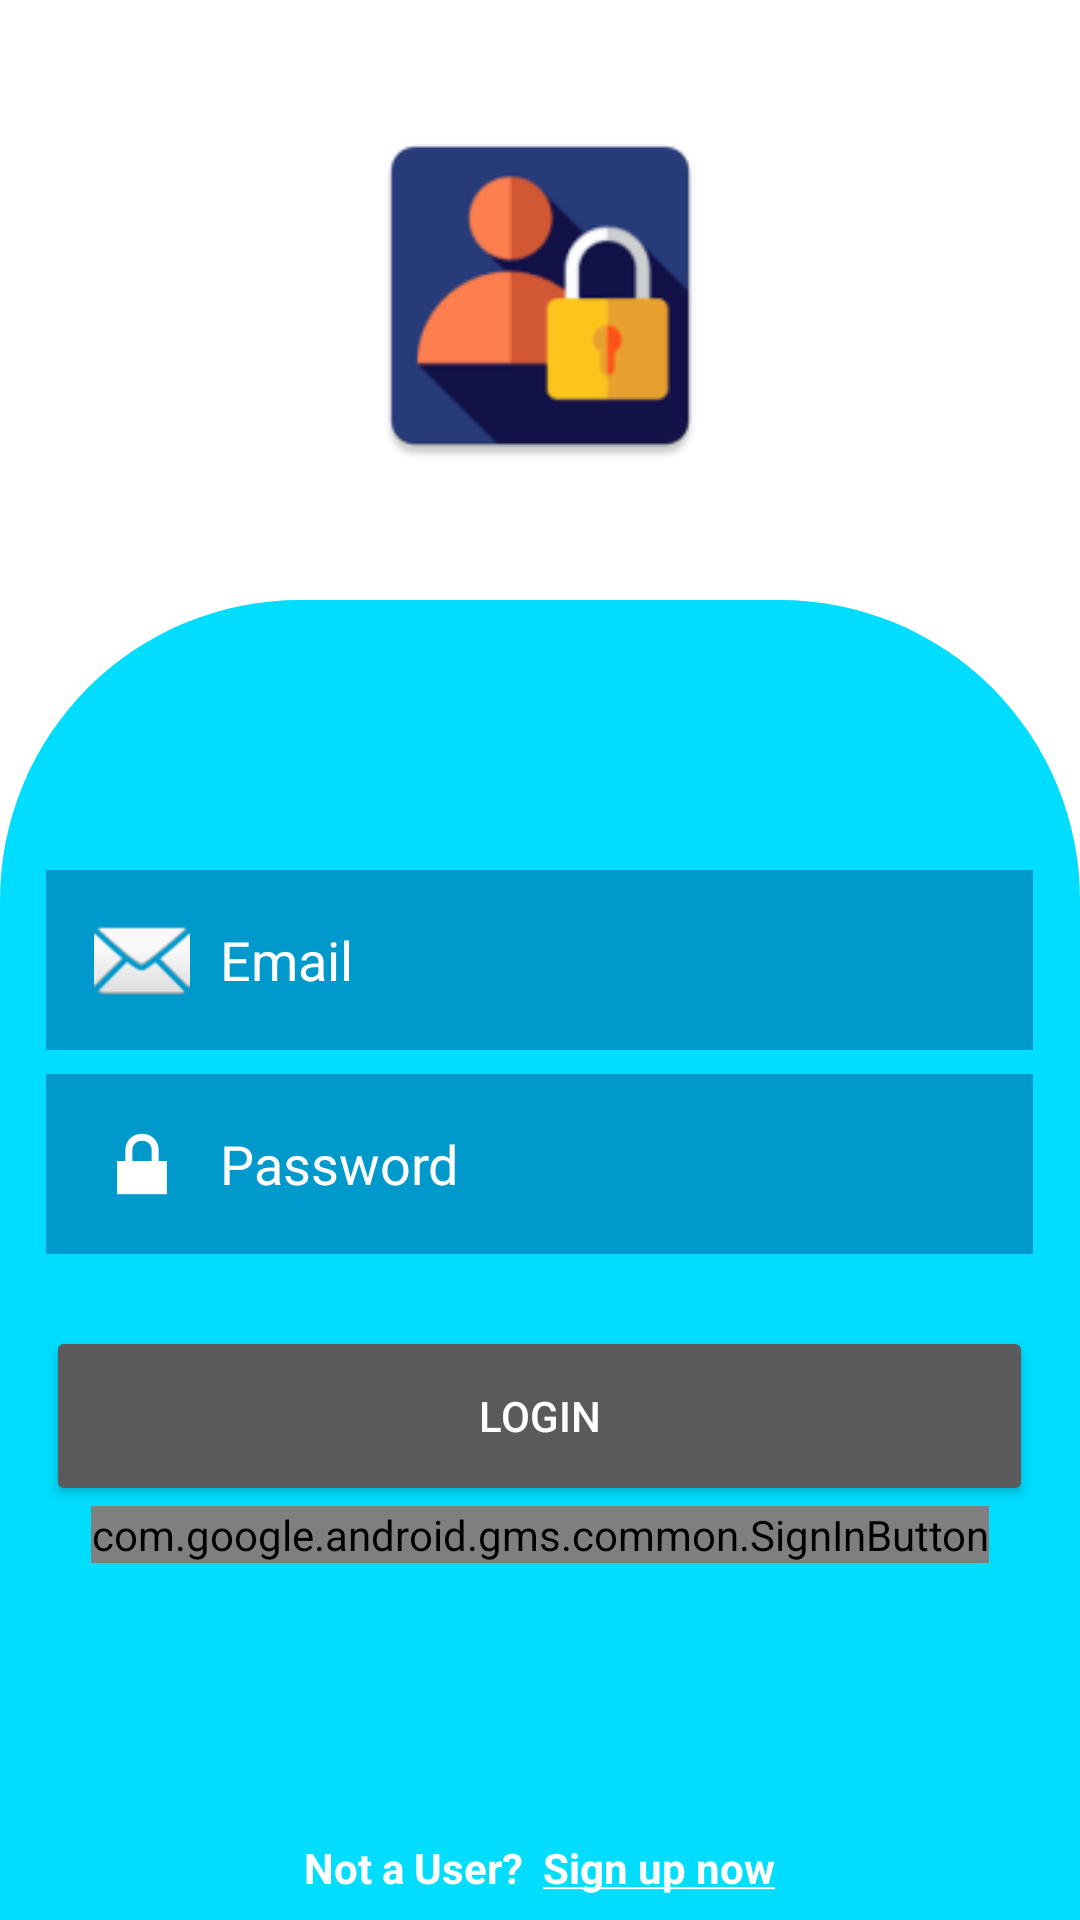

Icons on this 1080x1920 Android screen, each with its box as (x1, y1, x2, y2):
login: (389, 145, 692, 453)
